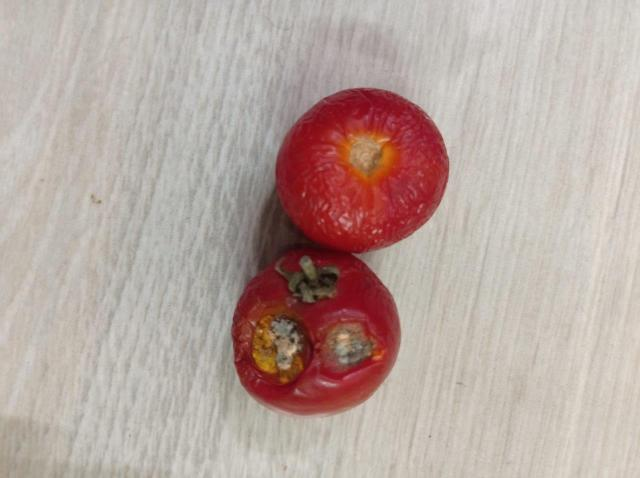defect: (226, 244, 404, 418)
